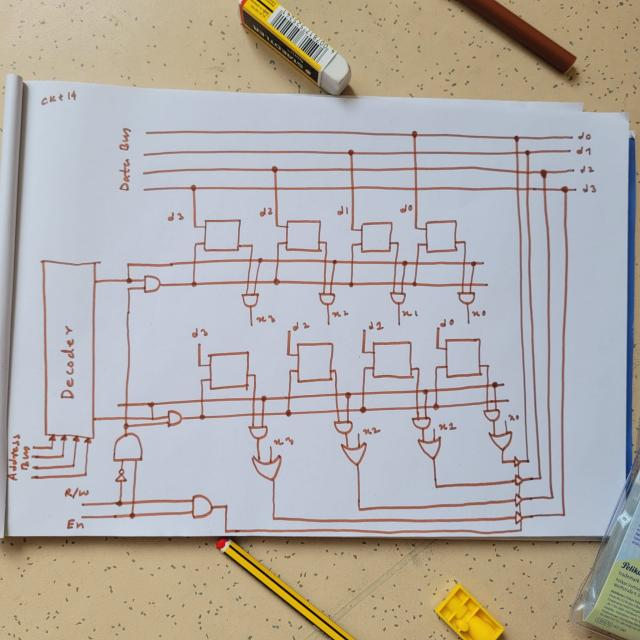crossover: (410, 148, 419, 156), (411, 163, 420, 171), (412, 184, 421, 192), (541, 185, 549, 193), (272, 184, 280, 192), (466, 280, 474, 288), (398, 278, 406, 286), (348, 258, 356, 266), (284, 394, 292, 402), (332, 391, 340, 399), (333, 407, 341, 415), (524, 185, 533, 192), (512, 149, 520, 156), (523, 168, 531, 175), (513, 185, 521, 192), (247, 256, 254, 264), (190, 258, 198, 265), (198, 396, 205, 404), (327, 280, 336, 286), (122, 415, 131, 421), (413, 260, 420, 267), (321, 257, 328, 264), (344, 406, 351, 413), (413, 387, 420, 394), (347, 166, 355, 172), (348, 184, 356, 190), (274, 258, 282, 264), (320, 279, 328, 285), (360, 390, 366, 398), (460, 259, 467, 265), (459, 280, 465, 287), (392, 259, 398, 266), (390, 279, 397, 285), (252, 280, 259, 286), (250, 396, 257, 402), (248, 411, 255, 417), (259, 410, 265, 417), (514, 168, 520, 174), (432, 387, 438, 393), (414, 404, 421, 409), (244, 279, 250, 284), (485, 382, 490, 388), (484, 399, 490, 404), (492, 397, 497, 403)
junction: (358, 404, 368, 414), (560, 184, 570, 194), (188, 183, 198, 193), (270, 164, 279, 174), (539, 168, 548, 178), (410, 130, 419, 139), (346, 148, 355, 157), (432, 401, 441, 410), (259, 394, 268, 403), (399, 259, 408, 268), (284, 408, 293, 417), (547, 492, 555, 502), (524, 457, 534, 465), (115, 499, 124, 507), (128, 511, 136, 520), (272, 277, 280, 286), (343, 391, 352, 399), (197, 412, 206, 420), (256, 256, 265, 264), (189, 280, 198, 288), (330, 257, 338, 266), (347, 280, 356, 288), (120, 401, 130, 408), (512, 134, 520, 142), (432, 482, 440, 490), (124, 276, 132, 284), (421, 388, 429, 396), (559, 510, 567, 518), (414, 240, 422, 248), (82, 470, 90, 478), (523, 148, 531, 156), (490, 381, 499, 388), (410, 280, 418, 287), (270, 514, 277, 522), (248, 242, 255, 250), (348, 225, 356, 232), (412, 223, 419, 231), (222, 526, 229, 534), (147, 401, 155, 408), (536, 474, 543, 482), (460, 239, 468, 246), (272, 222, 280, 229), (470, 260, 478, 267), (125, 261, 132, 268), (274, 240, 281, 247), (125, 284, 132, 291), (432, 364, 439, 371), (192, 222, 198, 230), (356, 506, 363, 512), (348, 242, 355, 248), (198, 377, 204, 384), (191, 241, 198, 247), (485, 363, 492, 369), (196, 362, 202, 368), (223, 503, 229, 509), (360, 348, 366, 354), (285, 351, 291, 357), (361, 365, 367, 371), (394, 240, 400, 246), (414, 365, 420, 371), (70, 462, 76, 468), (60, 453, 66, 459), (434, 344, 439, 351), (288, 368, 294, 373), (252, 373, 257, 379), (150, 416, 156, 421), (123, 423, 128, 429), (49, 445, 54, 451), (324, 240, 328, 246), (333, 368, 337, 372)
terminal: (566, 133, 575, 142), (324, 320, 332, 328), (140, 150, 148, 158), (142, 129, 150, 136), (571, 186, 578, 194), (396, 320, 404, 327), (248, 320, 256, 327), (140, 186, 148, 193), (30, 474, 38, 481), (286, 327, 292, 336), (30, 464, 39, 470), (567, 167, 574, 174), (79, 514, 86, 521), (482, 282, 490, 288), (140, 170, 148, 176), (361, 327, 367, 334), (566, 147, 572, 154), (479, 260, 486, 266), (195, 342, 202, 348), (503, 397, 510, 403), (434, 324, 440, 330), (31, 444, 37, 450), (501, 381, 506, 388), (29, 454, 36, 459), (467, 319, 472, 325), (502, 418, 508, 423), (80, 502, 85, 508), (356, 431, 361, 436), (432, 426, 436, 431), (268, 444, 273, 448)
text: (58, 322, 76, 401), (116, 127, 132, 193), (6, 433, 22, 482), (63, 485, 90, 500), (19, 442, 31, 472), (272, 435, 294, 447), (436, 421, 457, 432), (361, 426, 384, 436), (256, 313, 276, 324), (66, 518, 84, 530), (166, 210, 184, 222), (191, 326, 209, 338), (258, 205, 273, 218), (335, 204, 350, 217), (581, 182, 597, 194), (401, 308, 418, 319), (331, 309, 349, 319), (398, 202, 413, 214), (293, 320, 309, 331), (471, 308, 486, 319), (575, 146, 591, 156), (578, 164, 594, 174), (441, 316, 454, 328), (577, 132, 592, 140), (370, 320, 382, 330), (506, 413, 519, 422)
